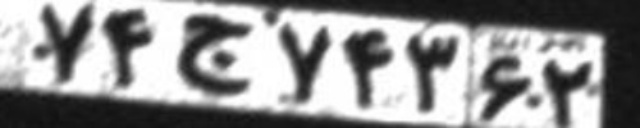2: (541, 57, 590, 127)
3: (407, 33, 458, 111)
4: (341, 27, 395, 108), (101, 8, 156, 86)
6: (478, 54, 529, 122)
7: (271, 22, 334, 102), (38, 0, 94, 83)
jim: (177, 13, 257, 96)
